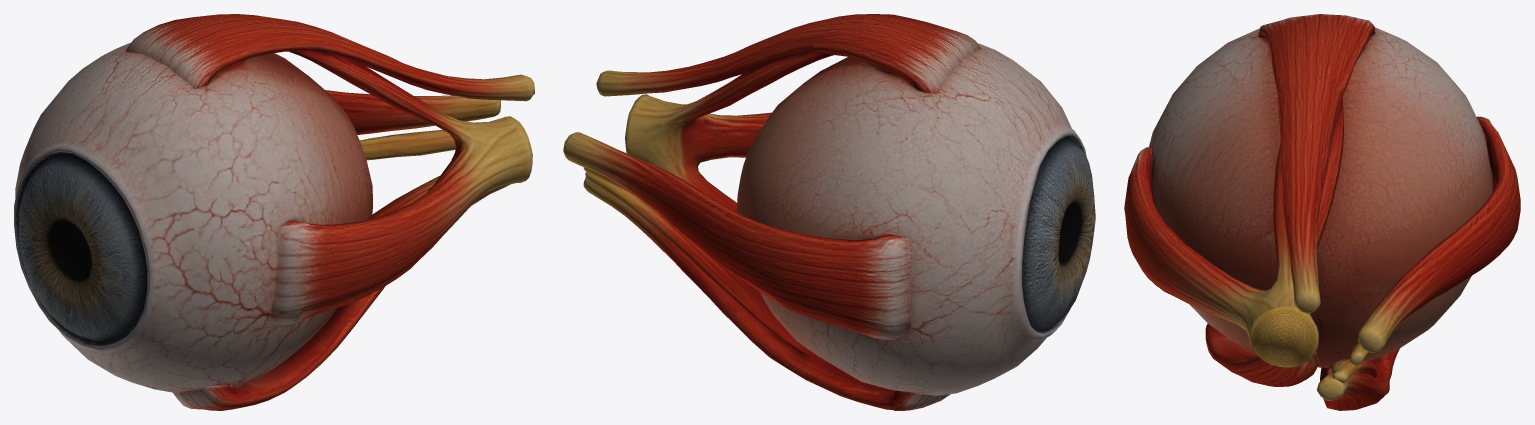
Rendered from eye-realistic.glb.
The picture shows the model from 3 angles, left to right: view 1: azimuth 30°, elevation 25°; view 2: azimuth 150°, elevation 25°; view 3: azimuth 270°, elevation 25°; orthographic projection. The views are drawn at different scales.
Visible parts, largest first — view 1: tripo_node_bbbd4ef5-ae0d-4351-86e8-021cf54c61b7; view 2: tripo_node_bbbd4ef5-ae0d-4351-86e8-021cf54c61b7; view 3: tripo_node_bbbd4ef5-ae0d-4351-86e8-021cf54c61b7.
Boxes of the visible parts, <box> form: tripo_node_bbbd4ef5-ae0d-4351-86e8-021cf54c61b7: <box>14,14,534,410</box>; tripo_node_bbbd4ef5-ae0d-4351-86e8-021cf54c61b7: <box>563,14,1095,410</box>; tripo_node_bbbd4ef5-ae0d-4351-86e8-021cf54c61b7: <box>1124,14,1520,410</box>.
Bounding box in the file's own units: 0.998 × 0.7285 × 0.7324.
Materials: 1 (1 with a texture image).
